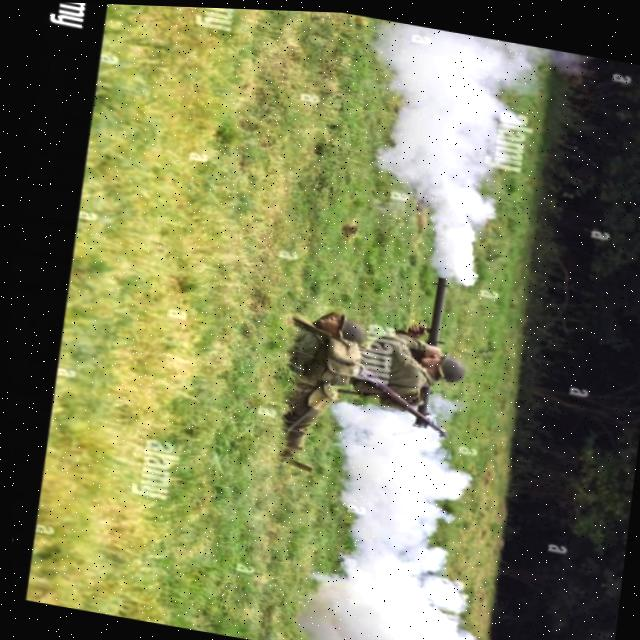rocket: (401, 273, 464, 430)
